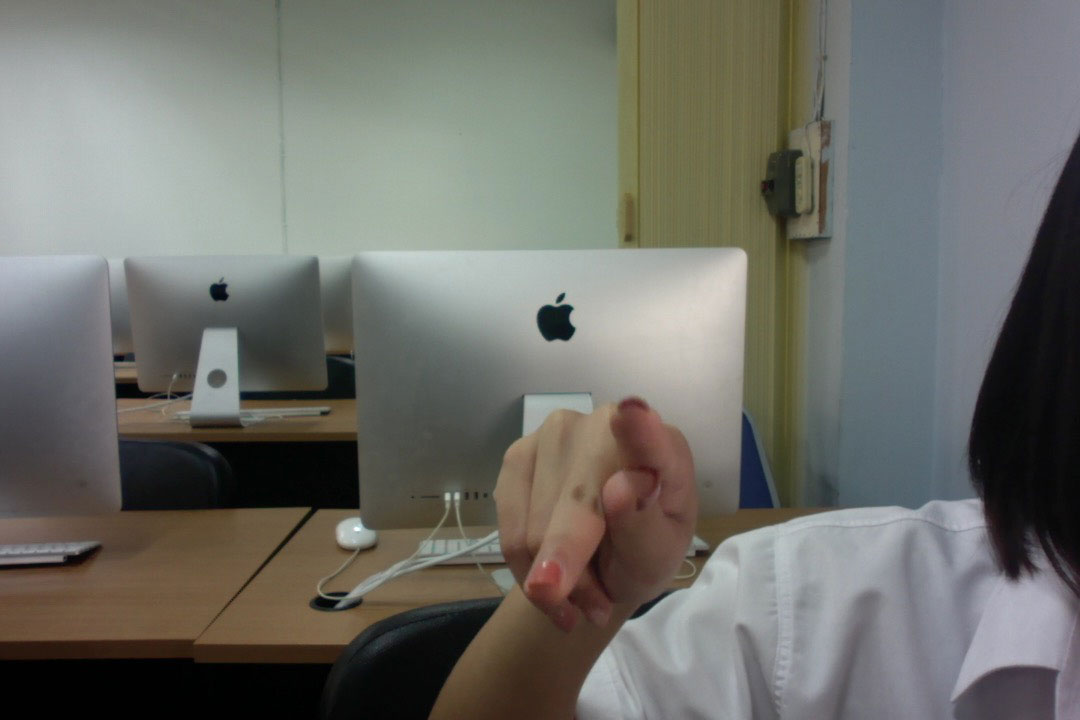por: (480, 399, 711, 642)
